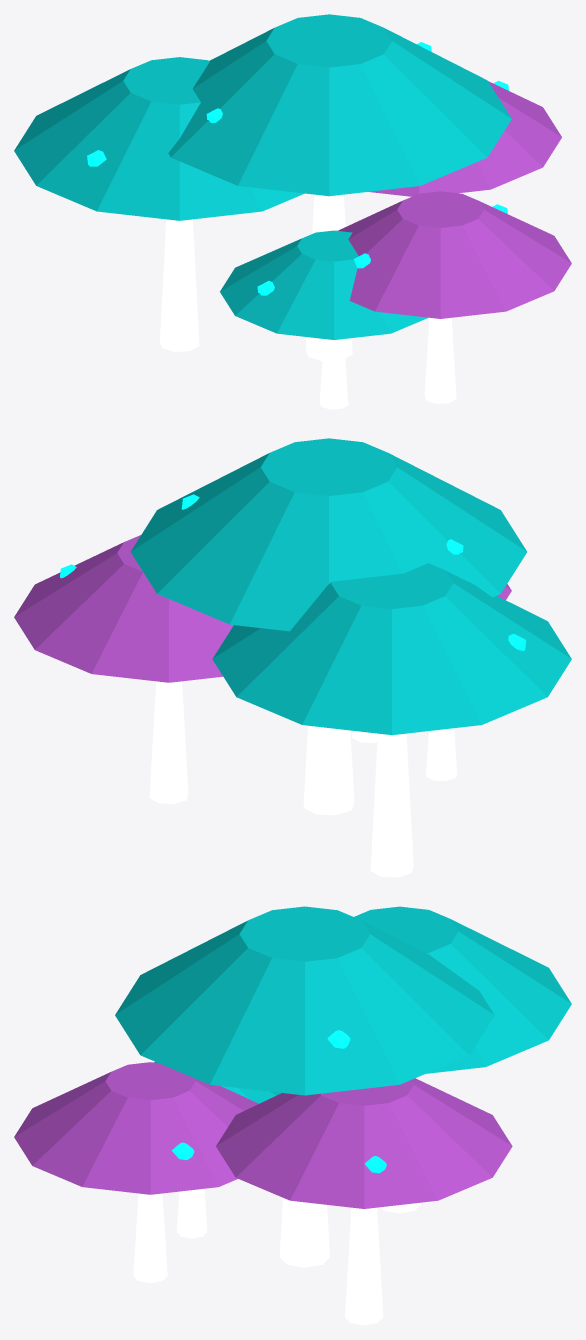
The model's file is alien_mushroom_cluster.glb.
3 renders of one model, top to bottom at view 1: azimuth 30°, elevation 25°; view 2: azimuth 150°, elevation 25°; view 3: azimuth 270°, elevation 25°, orthographic. The views are drawn at different scales.
Parts seen in each view (by area): view 1: alien_mushroom_cluster; view 2: alien_mushroom_cluster; view 3: alien_mushroom_cluster.
Boxes of the visible parts, left/top/right/bottom form: alien_mushroom_cluster: left=14, top=14, right=571, bottom=409; alien_mushroom_cluster: left=14, top=438, right=571, bottom=877; alien_mushroom_cluster: left=14, top=906, right=571, bottom=1325.
Size of the model in its own units: 1.98 by 1.2 by 1.88.
